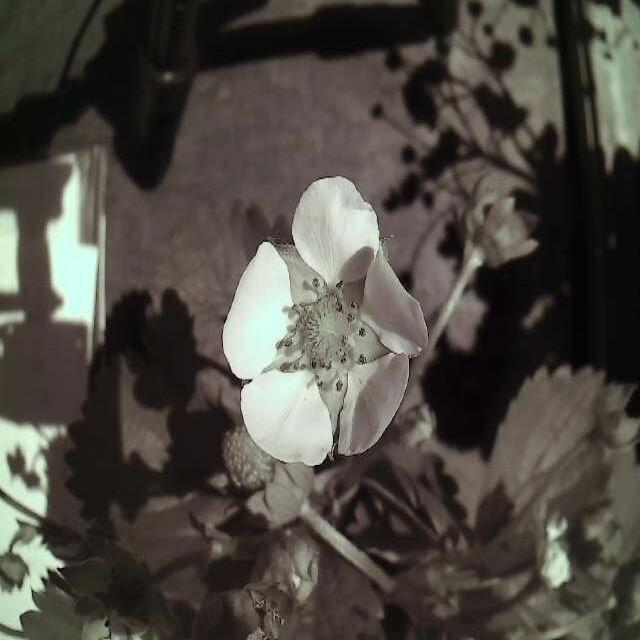flower: (220, 170, 430, 468)
